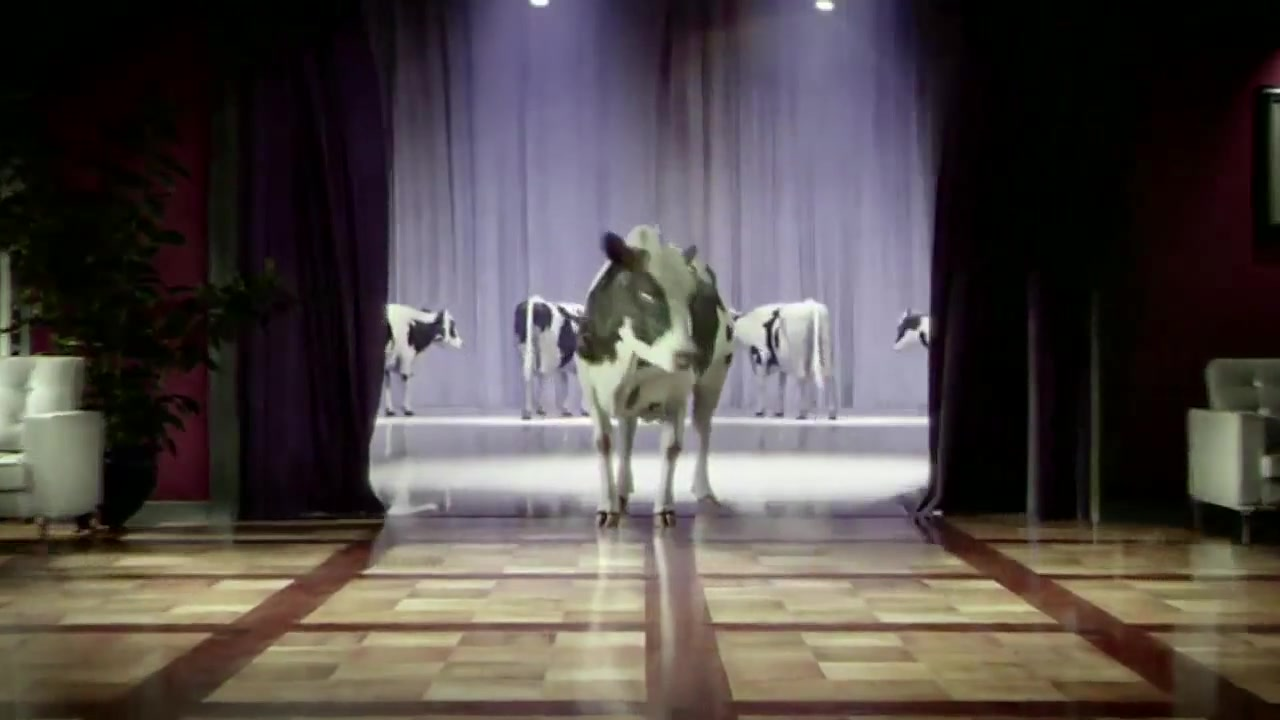cow: (570, 226, 738, 531)
